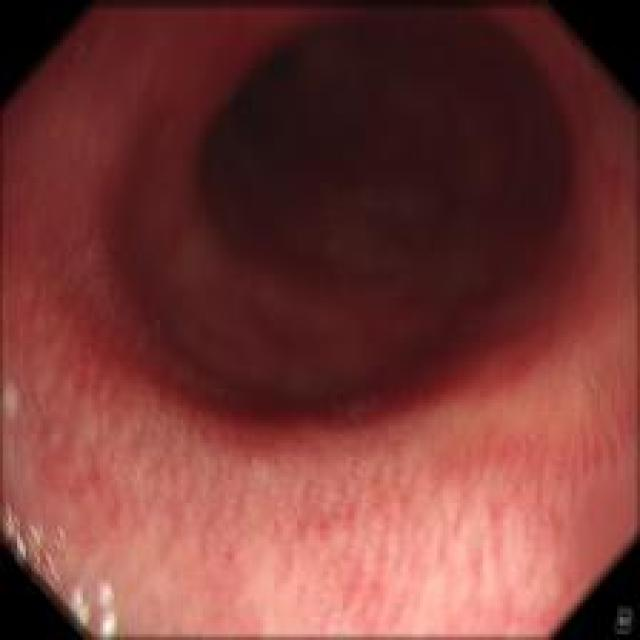blur: (0, 1, 638, 636)
color misalignment: (1, 499, 71, 588), (70, 576, 129, 636)
contrast: (86, 11, 606, 420)
